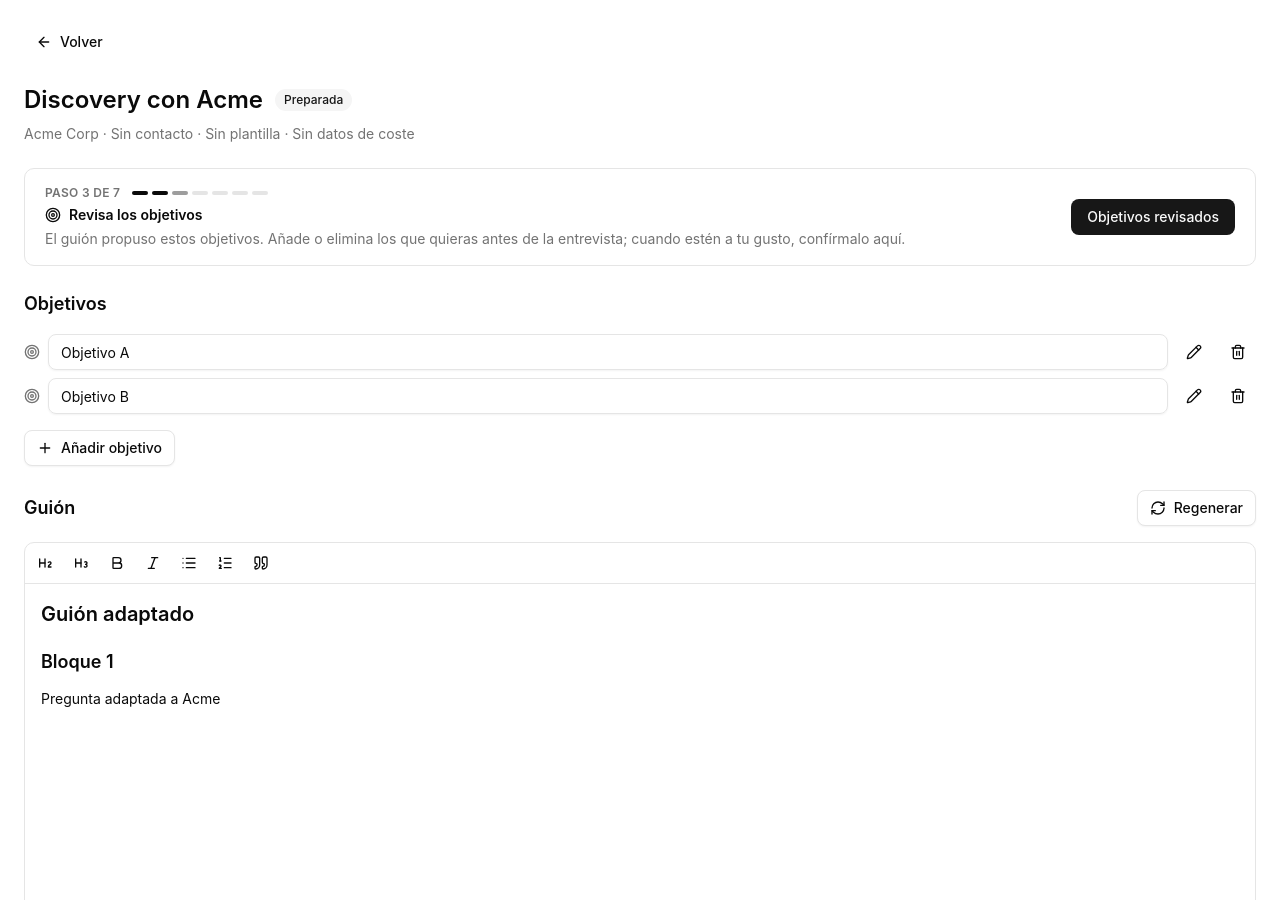
Scenario: ScriptSection › always-on editing (SPEC-029) › shows the always-mounted WYSIWYG editor and the editable objectives with add/remove controls, without an Editar button
Expected: the heading "Guión adaptado" is shown, [41,602,194,626]
Expected: the heading "Bloque 1" is shown, [41,651,114,672]
// Añadir → aparece un tercer objetivo vacío
Click the button "Añadir objetivo": (100, 448) [24,430,175,466]
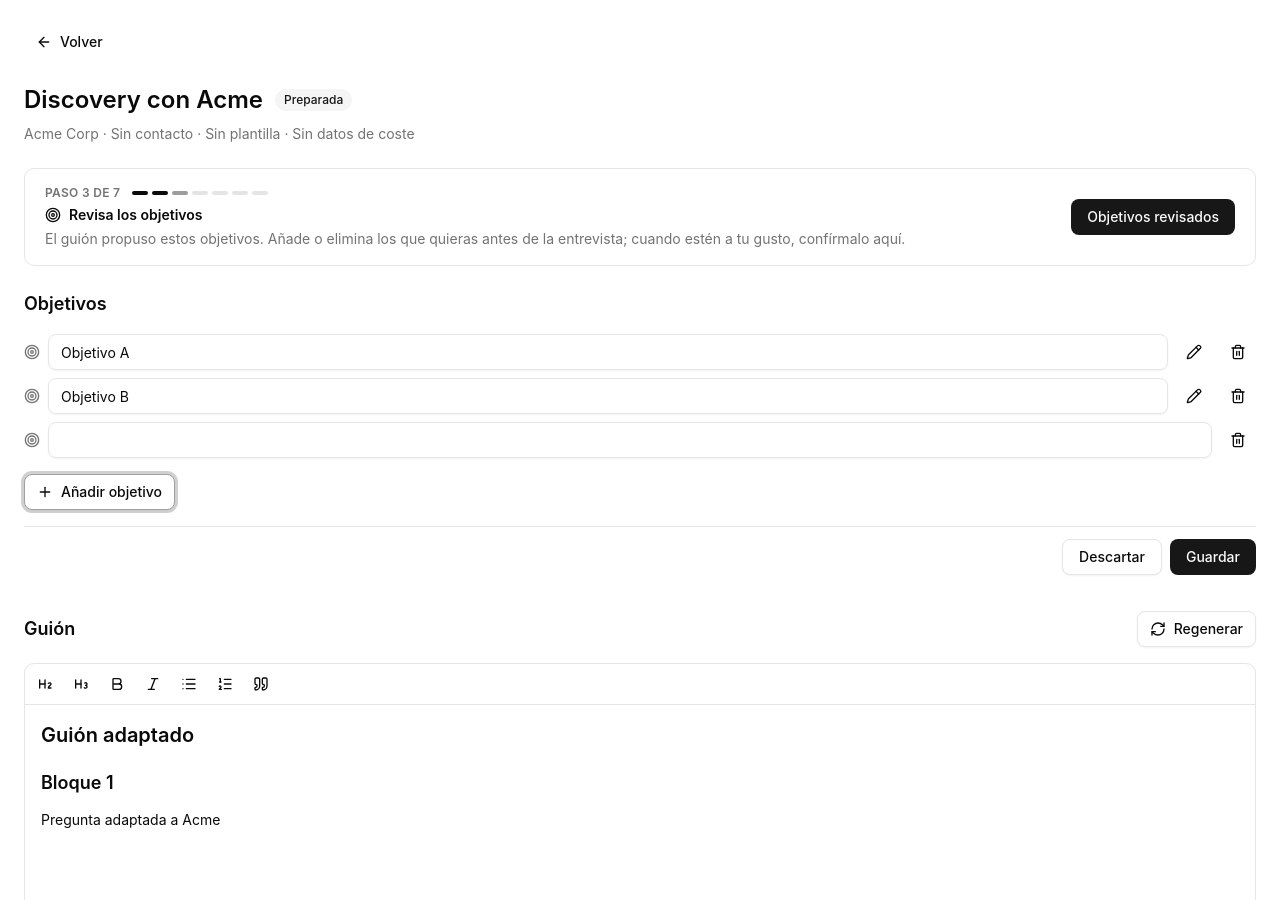
Now the field named "Objetivo 3" is empty, box [48,422,1212,458]
// Quitar el primero → quedan dos (B y el vacío)
Click the 1st button named "Eliminar objetivo": (1238, 352) [1220,334,1256,370]
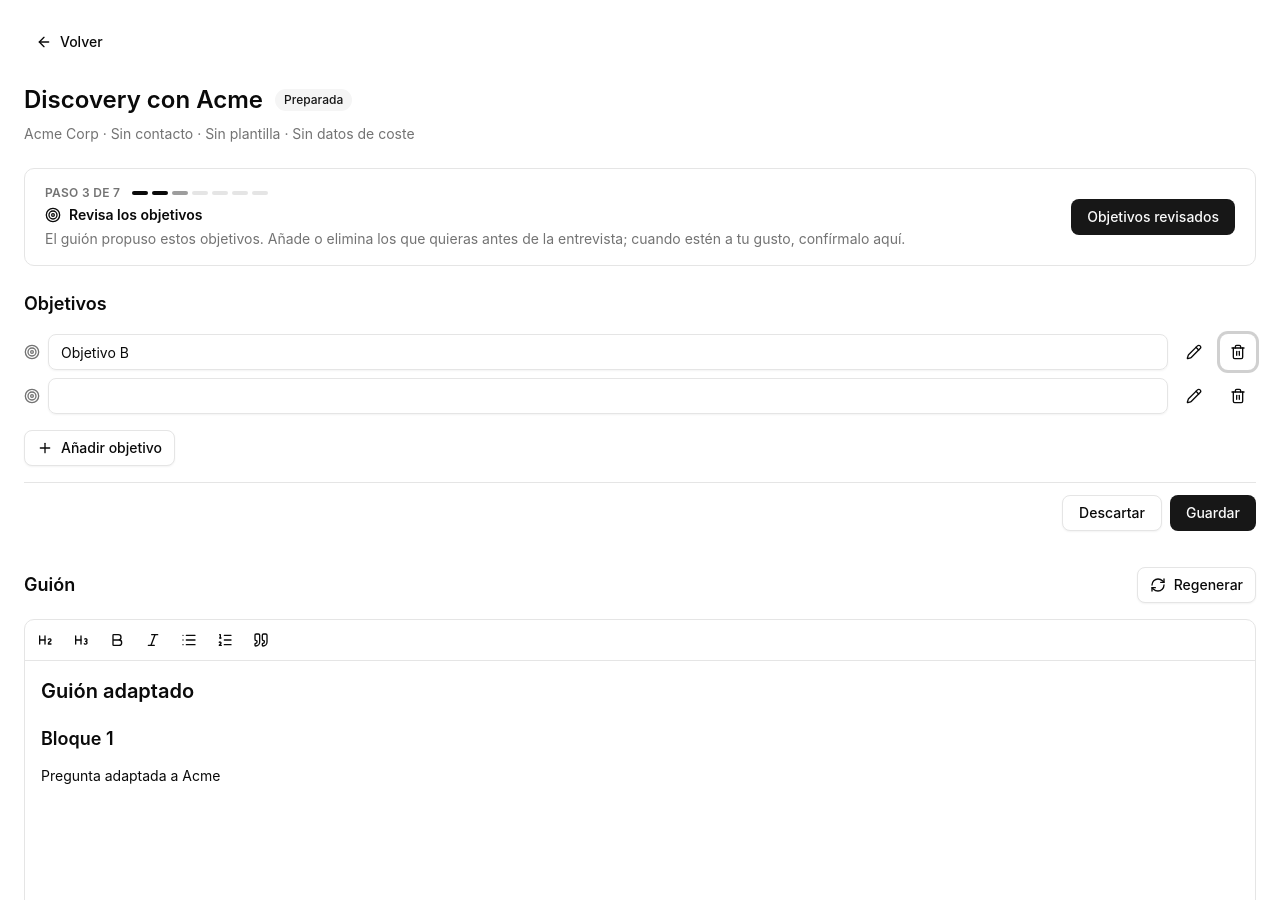
Now the field named "Objetivo 1" holds "Objetivo B", box [48,334,1168,370]
Now the field named "Objetivo 2" is empty, box [48,378,1168,414]
